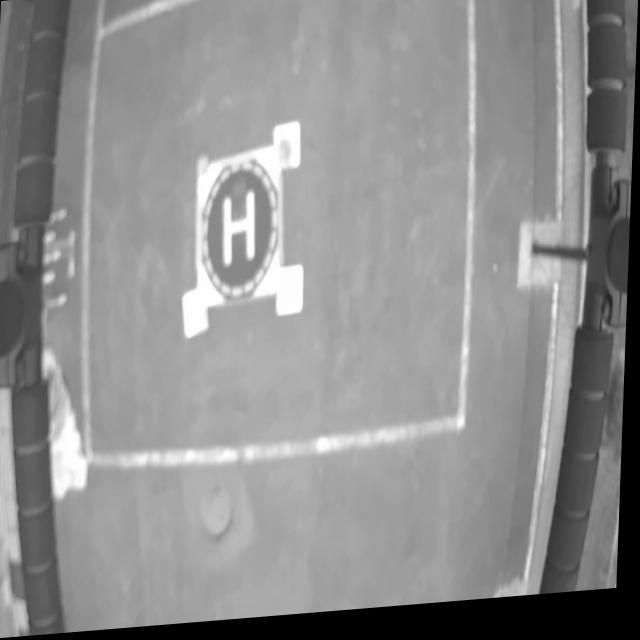Helipad: (223, 190, 257, 272)
